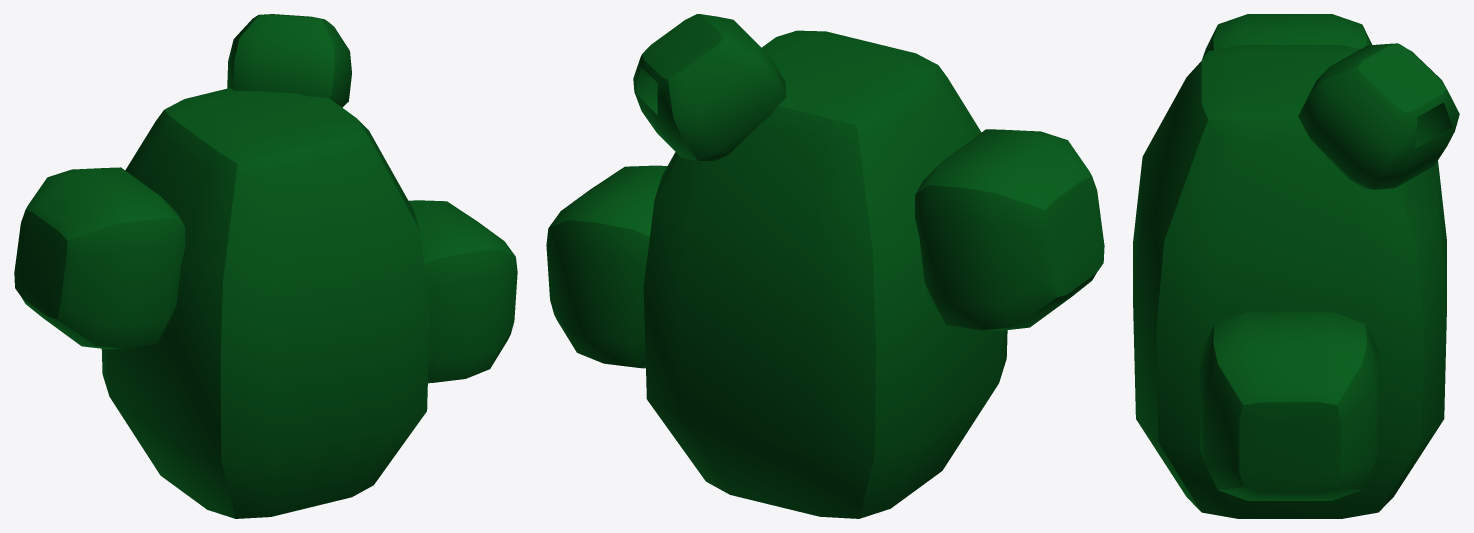
The model's file is Cactus_3.fbx.
3 views of the same model, side by side, from view 1: azimuth 30°, elevation 25°; view 2: azimuth 150°, elevation 25°; view 3: azimuth 270°, elevation 25° (orthographic). The views are drawn at different scales.
Parts seen in each view (by area): view 1: Cactus_3; view 2: Cactus_3; view 3: Cactus_3.
Part boxes in pixels (box(x1,y1,x2,y2)): Cactus_3: box(14, 14, 517, 518); Cactus_3: box(546, 14, 1104, 518); Cactus_3: box(1133, 14, 1459, 518).
Bounding box in the file's own units: 55.48 × 47.37 × 30.67.
